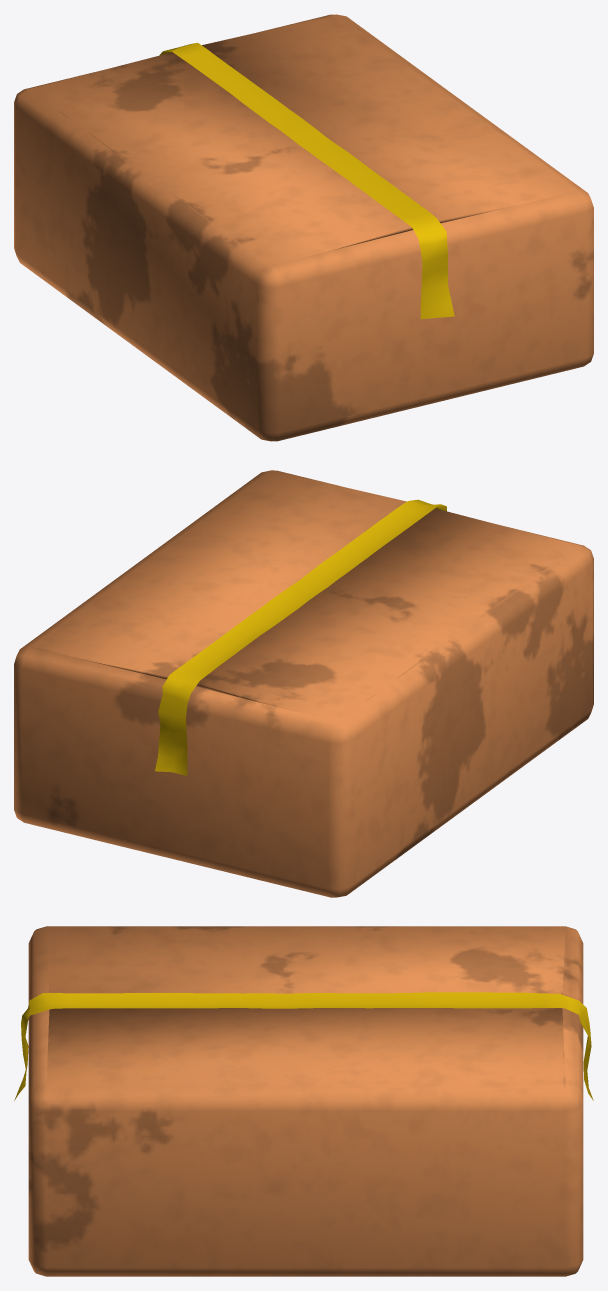
The model's file is CardboardBox(Squashed).fbx.
3 views of the same model, one above another, from view 1: azimuth 30°, elevation 25°; view 2: azimuth 150°, elevation 25°; view 3: azimuth 270°, elevation 25° (orthographic). The views are drawn at different scales.
Parts seen in each view (by area): view 1: Cardboardbox.004; view 2: Cardboardbox.004; view 3: Cardboardbox.004.
Boxes of the visible parts, x1=… form: Cardboardbox.004: x1=14, y1=14, x2=593, y2=441; Cardboardbox.004: x1=14, y1=470, x2=593, y2=897; Cardboardbox.004: x1=14, y1=926, x2=593, y2=1276.
Size of the model in its own units: 600 by 312 by 837.
